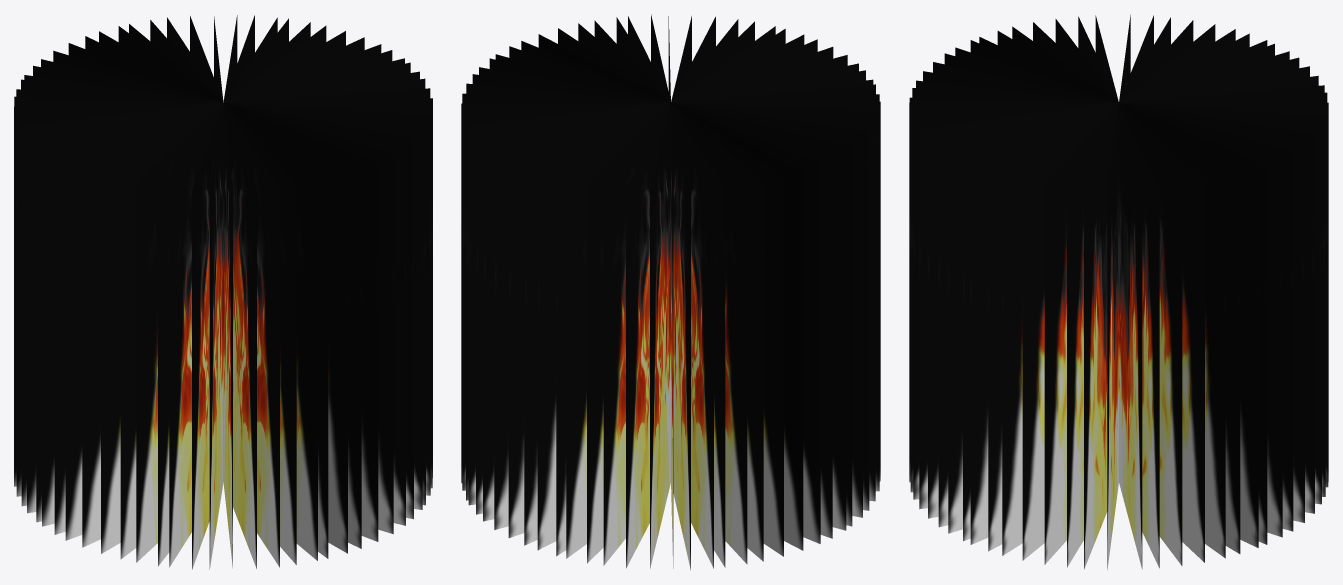
Rendered from fire.gltf.
The picture shows the model from 3 angles, left to right: view 1: azimuth 30°, elevation 25°; view 2: azimuth 150°, elevation 25°; view 3: azimuth 270°, elevation 25°; orthographic projection.
Visible parts, largest first — view 1: Fire; view 2: Fire; view 3: Fire.
Part boxes in pixels (<box>): Fire: <box>14,15,432,569</box>; Fire: <box>461,14,880,570</box>; Fire: <box>909,15,1328,569</box>.
Size of the model in its own units: 2.45 by 2.45 by 2.45.
Materials: 1 (1 with a texture image).
